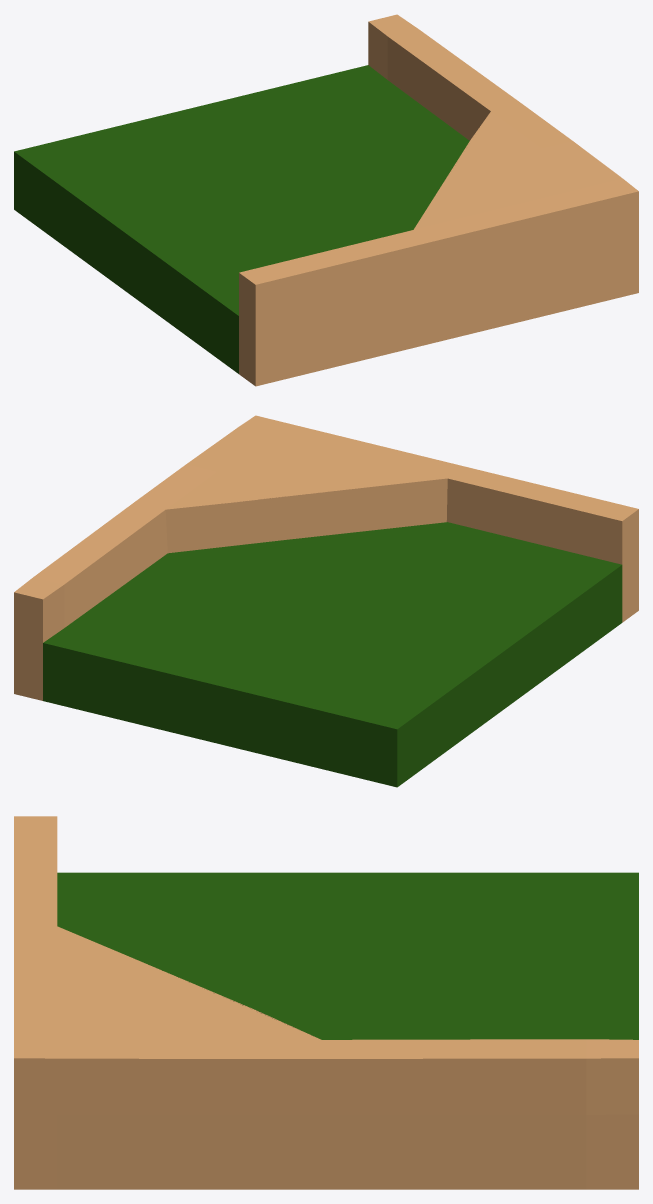
Rendered from Lego8.fbx.
3 renders of one model, top to bottom at view 1: azimuth 30°, elevation 25°; view 2: azimuth 150°, elevation 25°; view 3: azimuth 270°, elevation 25°, orthographic. The views are drawn at different scales.
Parts seen in each view (by area): view 1: Cube.009, Cube.018; view 2: Cube.009, Cube.018; view 3: Cube.018, Cube.009.
Part boxes in pixels (x1,y1,x2,y2): Cube.009: (14, 65, 469, 373); Cube.018: (239, 14, 638, 386); Cube.009: (43, 522, 622, 787); Cube.018: (14, 415, 638, 700); Cube.018: (14, 816, 638, 1189); Cube.009: (57, 872, 638, 1039).
Bounding box in the file's own units: 166 × 42.23 × 181.
